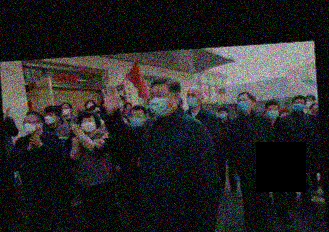with_mask: (149, 88, 176, 117), (186, 90, 200, 109), (80, 116, 96, 132), (128, 111, 144, 127), (23, 118, 38, 135), (236, 96, 250, 112), (43, 111, 56, 125), (293, 98, 305, 113), (267, 106, 279, 120), (60, 104, 71, 116), (218, 110, 228, 120), (86, 101, 96, 110), (305, 97, 313, 108)
